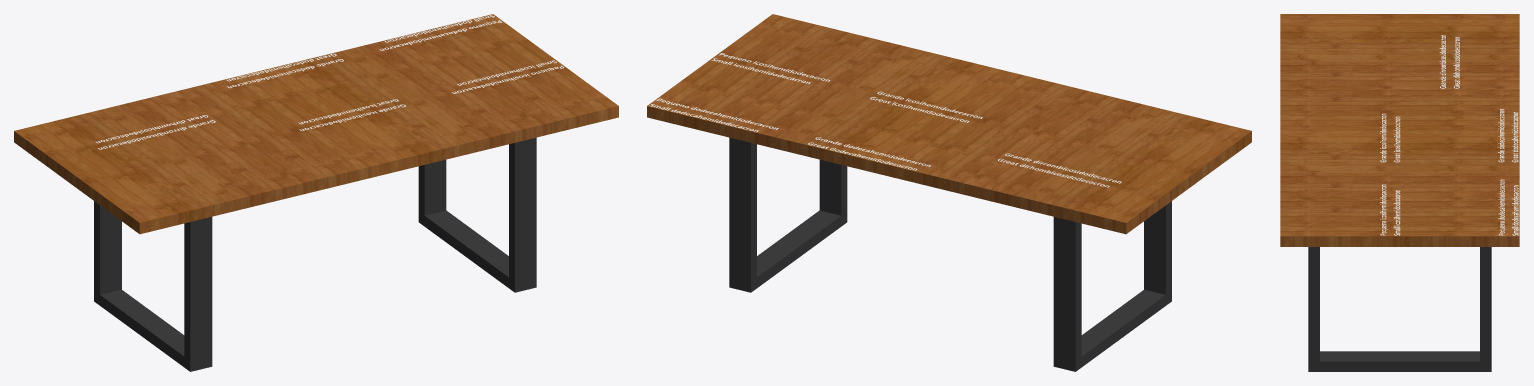
Rendered from infinity2.glb.
3 renders of one model, left to right at view 1: azimuth 30°, elevation 25°; view 2: azimuth 150°, elevation 25°; view 3: azimuth 270°, elevation 25°, orthographic. The views are drawn at different scales.
Visible parts, largest first — view 1: root; view 2: root; view 3: root.
Part boxes in pixels (x1,y1,x2,y2): root: (14, 14, 618, 371); root: (647, 14, 1251, 371); root: (1280, 14, 1519, 371).
Bounding box in the file's own units: 2.2 × 0.771 × 1.
Materials: 3 (1 with a texture image).
